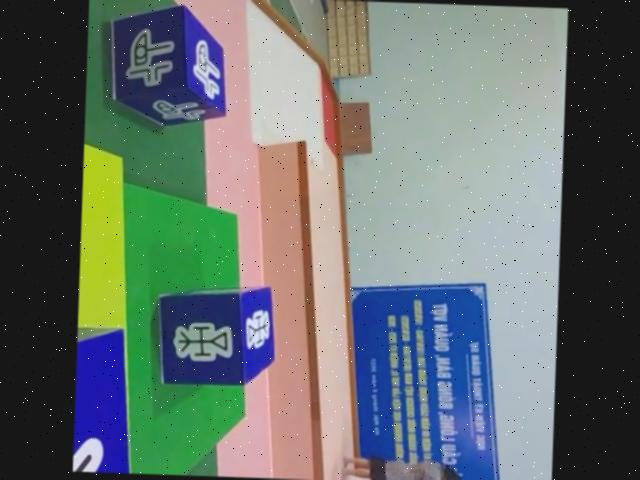R2 Real Blue: (104, 2, 227, 128), (152, 283, 275, 389)
